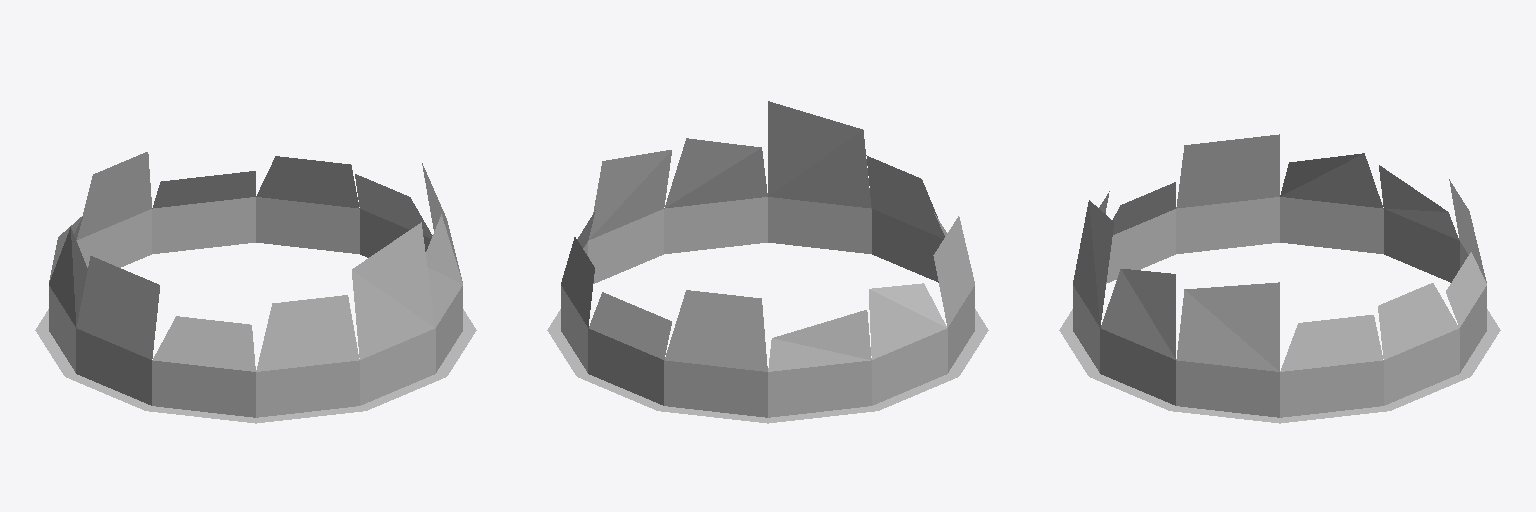
Rendered from arena.obj.
3 renders of one model, left to right at view 1: azimuth 30°, elevation 25°; view 2: azimuth 150°, elevation 25°; view 3: azimuth 270°, elevation 25°, orthographic.
Visible parts, largest first — view 1: Circle; view 2: Circle; view 3: Circle.
Boxes of the visible parts, <box> form: Circle: <box>35,152,476,423</box>; Circle: <box>547,101,988,423</box>; Circle: <box>1059,134,1500,423</box>.
Size of the model in its own units: 312 by 116 by 312.